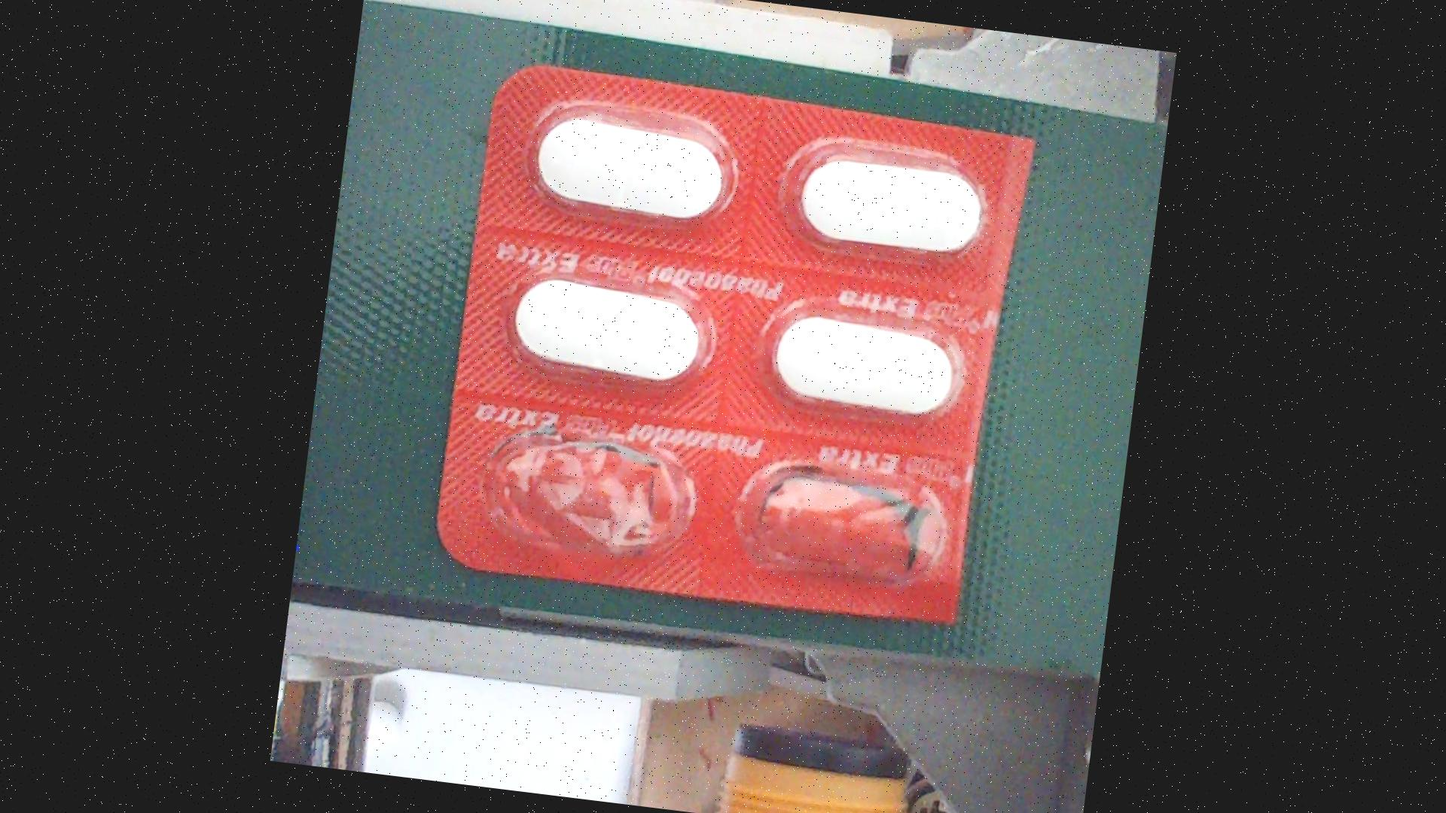Empty: (471, 402, 715, 576), (720, 436, 964, 609)
Full: (500, 255, 718, 395), (755, 294, 972, 433), (780, 134, 997, 273), (522, 97, 739, 236)
